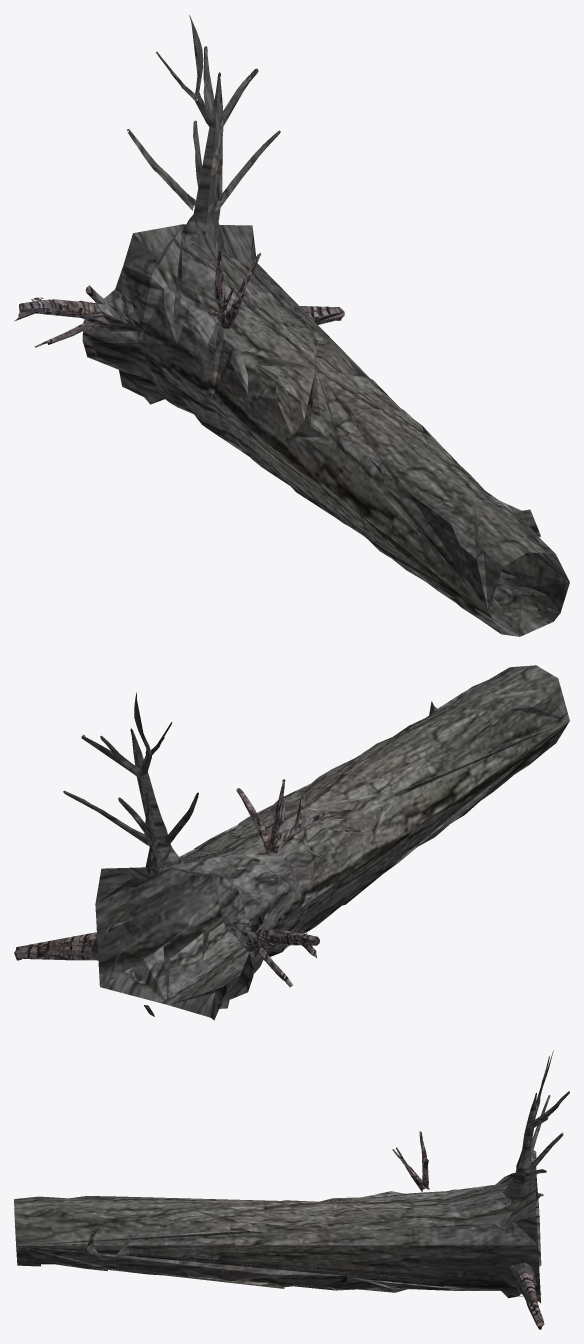
The model's file is tree branch.FBX.
3 renders of one model, top to bottom at view 1: azimuth 30°, elevation 25°; view 2: azimuth 150°, elevation 25°; view 3: azimuth 270°, elevation 25°, orthographic. The views are drawn at different scales.
Visible parts, largest first — view 1: trunk body; view 2: trunk body; view 3: trunk body.
Part boxes in pixels (left/top/right/bottom): trunk body: left=14, top=15, right=569, bottom=636; trunk body: left=14, top=665, right=569, bottom=1020; trunk body: left=14, top=1050, right=569, bottom=1329.
Size of the model in its own units: 59.96 by 62.67 by 126.
2 materials, 2 textured.
